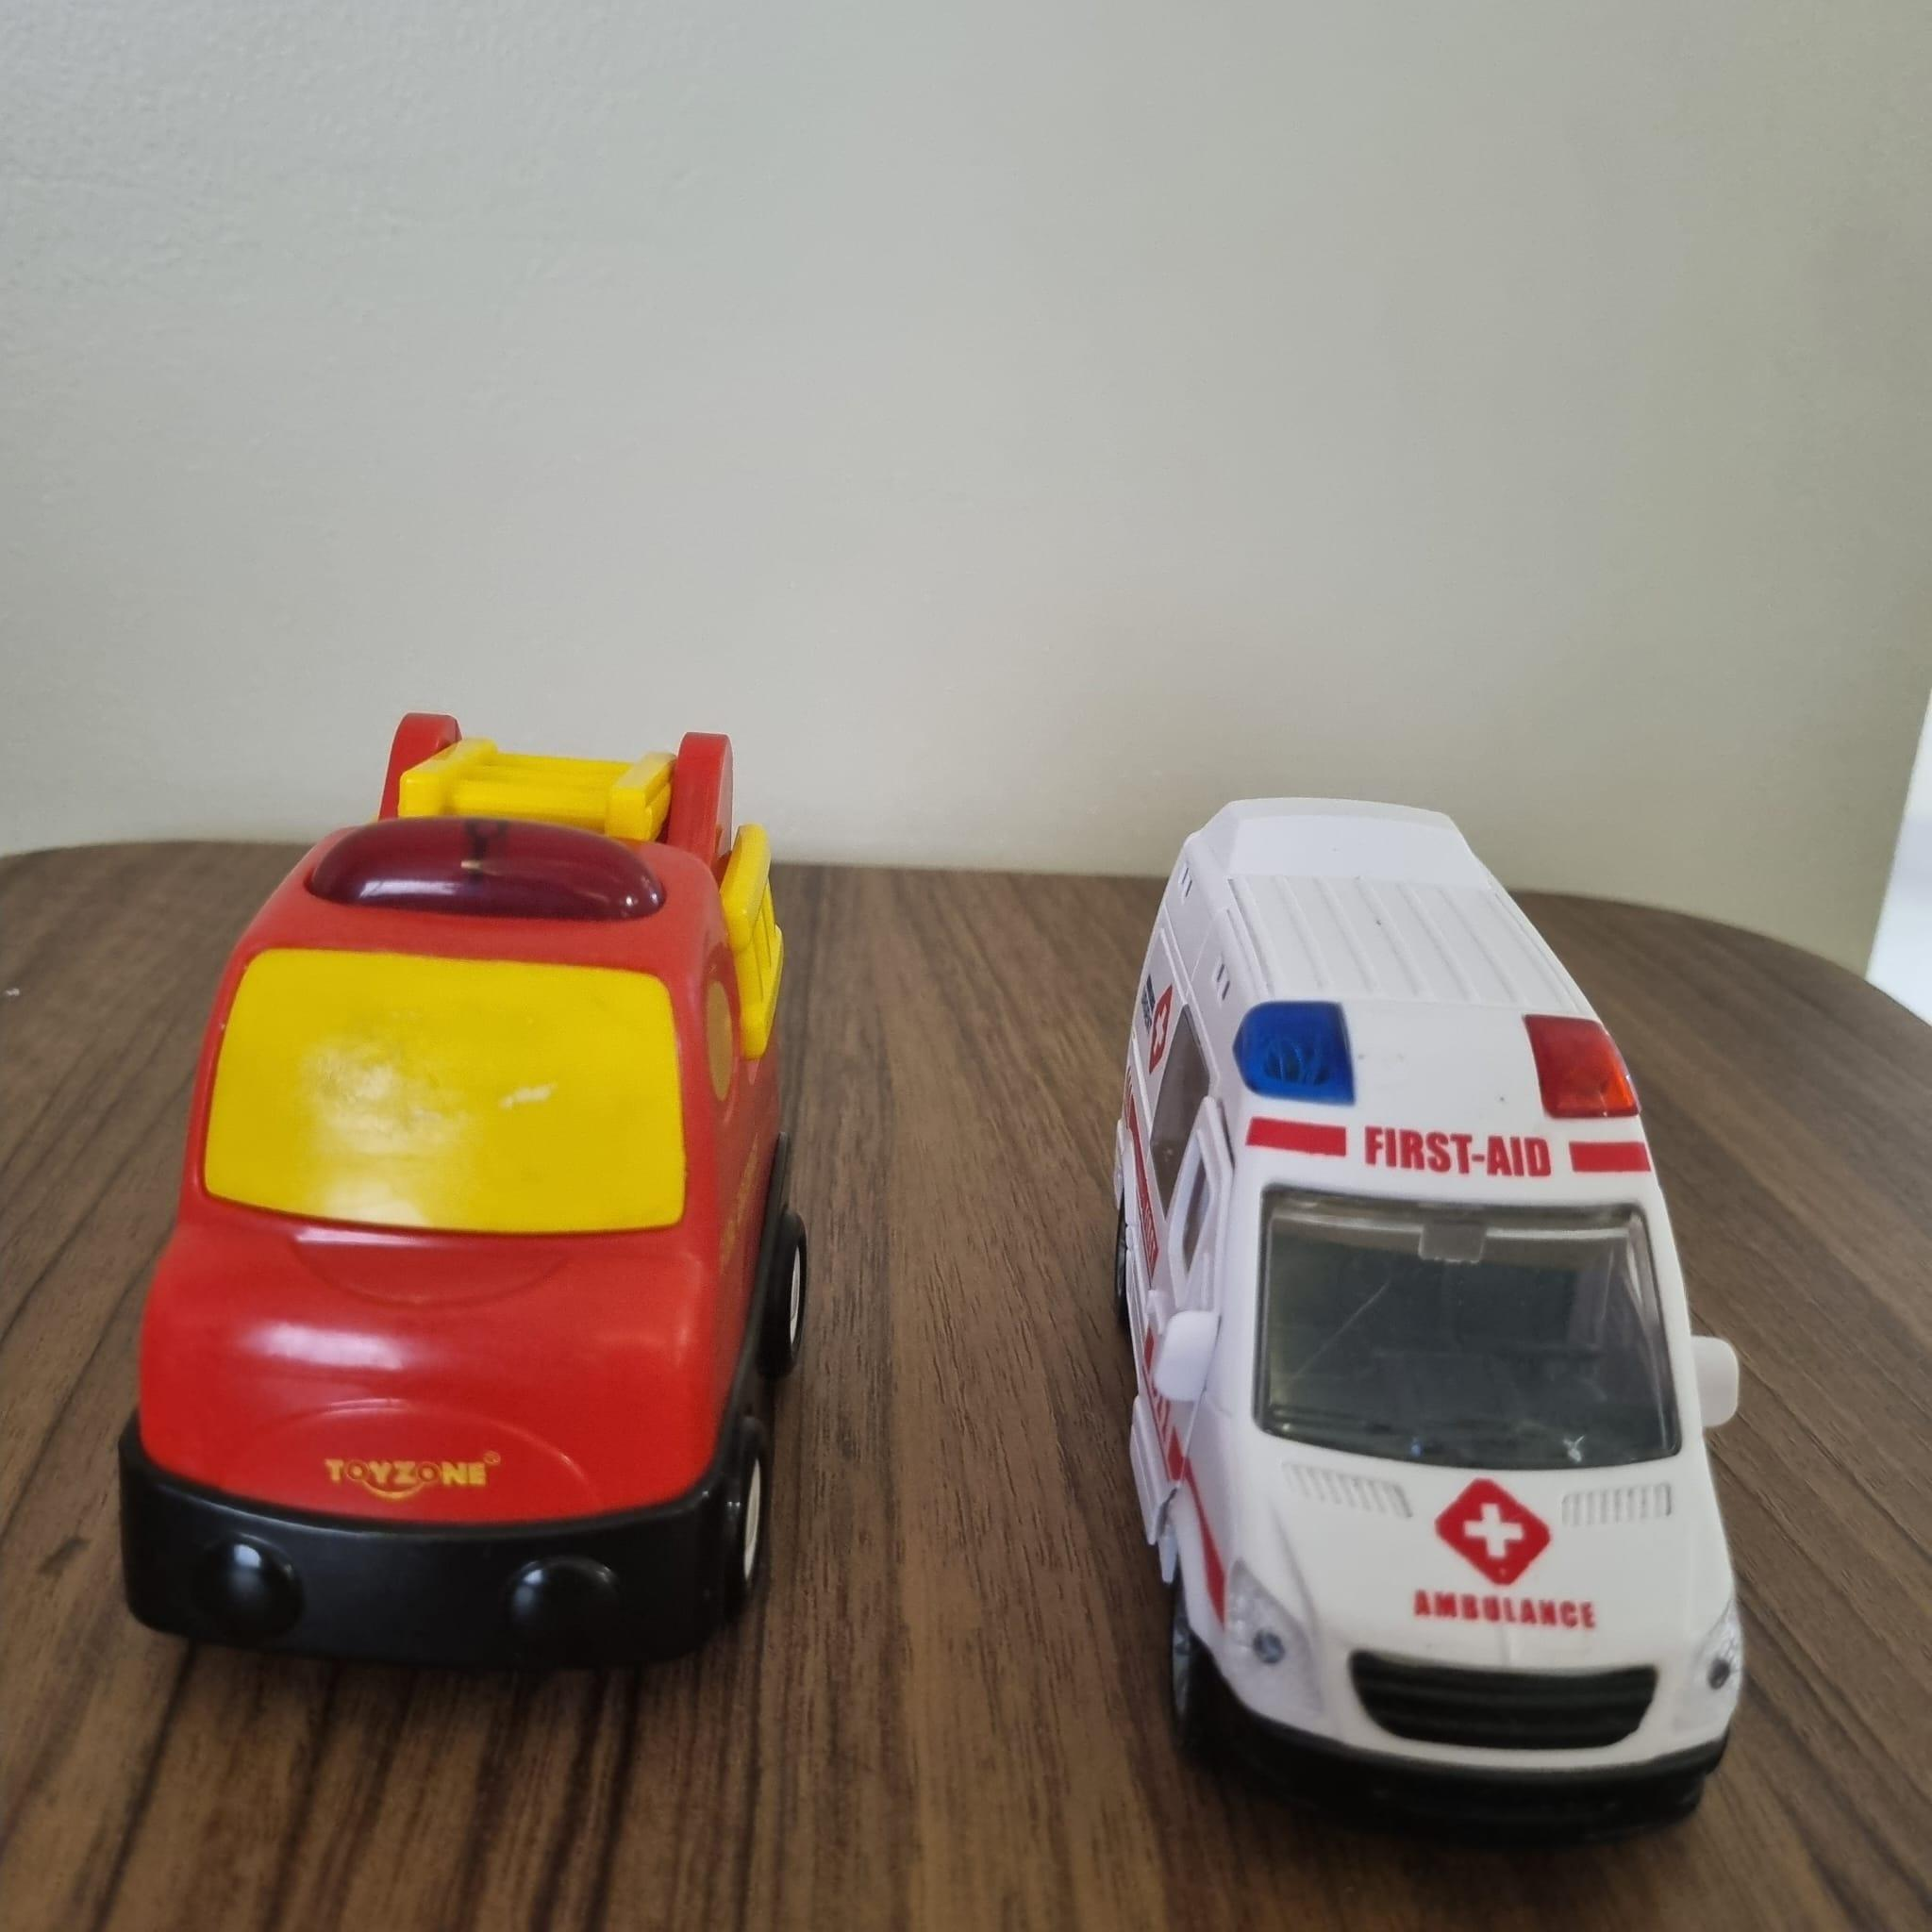ambulance_off: (1115, 793, 1744, 1815)
firetruck_off: (111, 713, 807, 1651)
